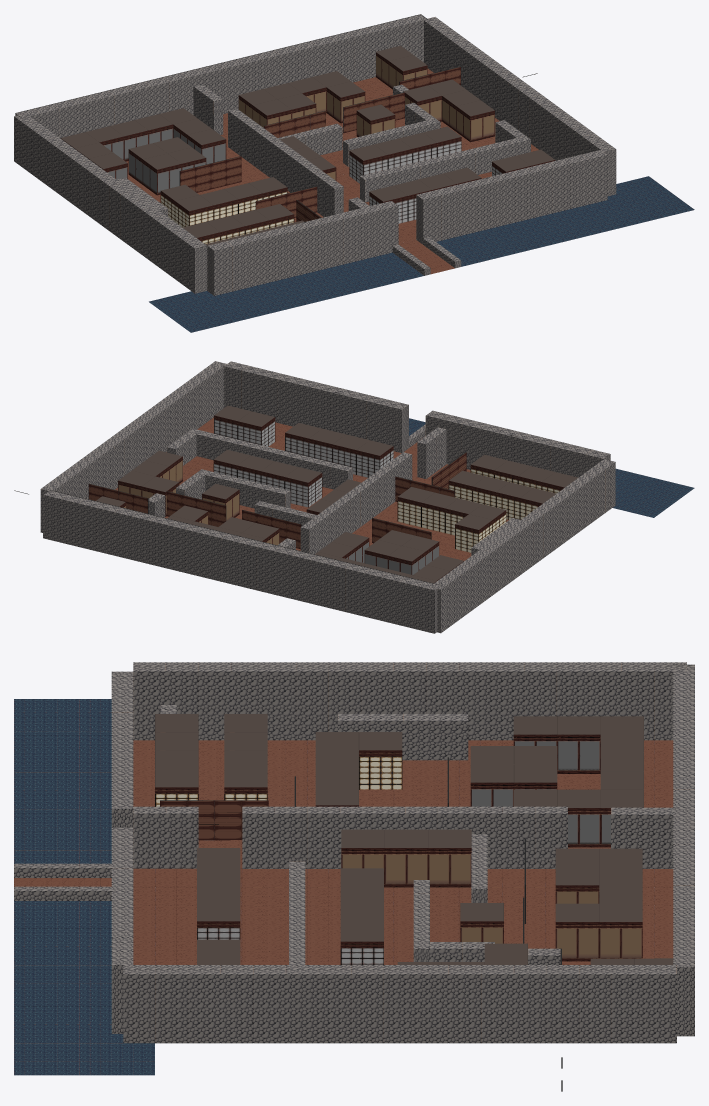
File: maze.obj
3 renders of one model, top to bottom at view 1: azimuth 30°, elevation 25°; view 2: azimuth 150°, elevation 25°; view 3: azimuth 270°, elevation 25°, orthographic. The views are drawn at different scales.
Visible parts, largest first — view 1: Default; view 2: Default; view 3: Default.
Part boxes in pixels (x1=…): Default: x1=14, y1=14, x2=694, y2=332; Default: x1=14, y1=361, x2=694, y2=633; Default: x1=14, y1=662, x2=694, y2=1091.
Size of the model in its own units: 27.38 by 3.43 by 20.07.
Materials: 4 (4 with a texture image).
